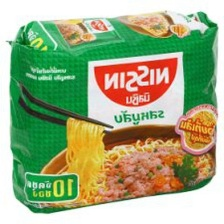snack: (2, 4, 224, 217)
